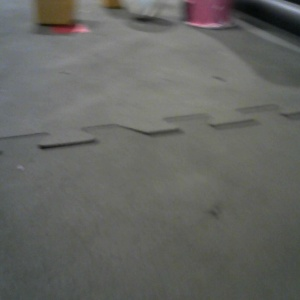right: (243, 1, 300, 95)
